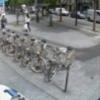bicycles: (46, 46, 77, 82)
